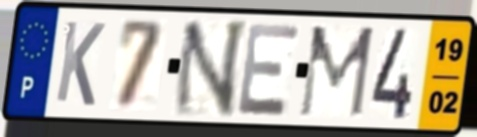4: (368, 26, 415, 123)
7: (114, 17, 168, 113)
E: (235, 20, 304, 119)
K: (52, 17, 108, 110)
M: (295, 23, 378, 120)
N: (169, 17, 252, 118)
